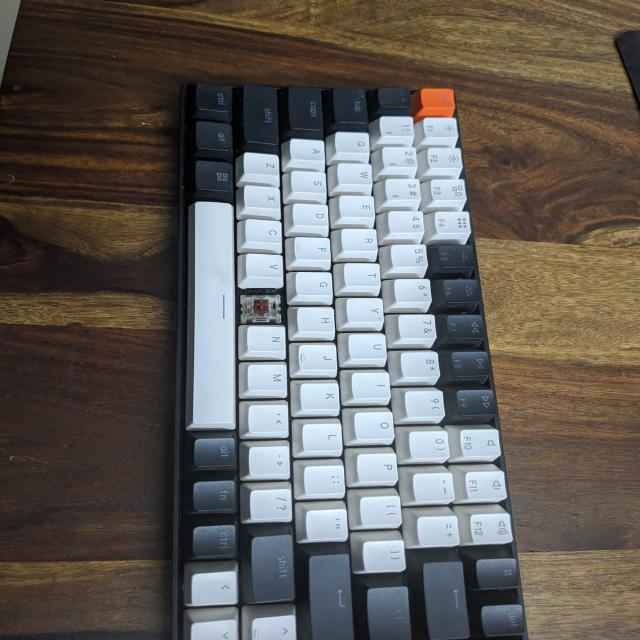C: (239, 291, 283, 324)
